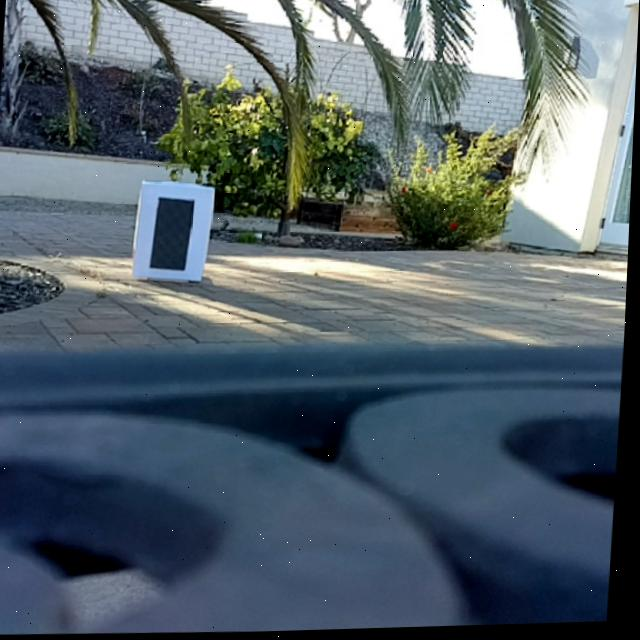led: (150, 196, 198, 273)
